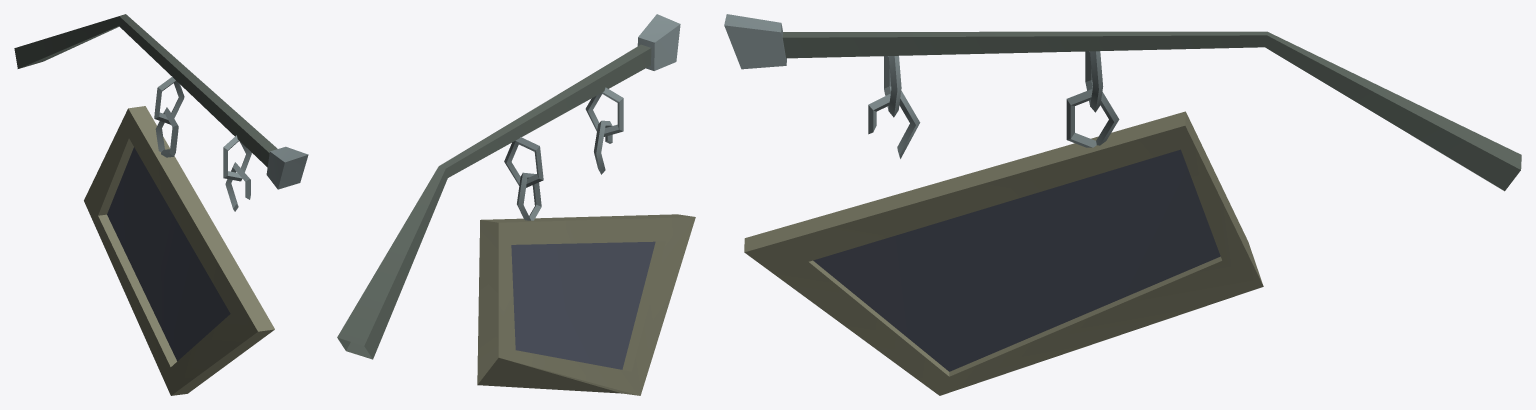
File: sign_broken.fbx
The picture shows the model from 3 angles, left to right: view 1: azimuth 30°, elevation 25°; view 2: azimuth 150°, elevation 25°; view 3: azimuth 270°, elevation 25°; orthographic projection. The views are drawn at different scales.
Visible parts, largest first — view 1: Sign_broken_anim, Sign_broken02; view 2: Sign_broken_anim, Sign_broken02; view 3: Sign_broken_anim, Sign_broken02.
Part boxes in pixels (x1=…): Sign_broken_anim: x1=84, y1=76, x2=274, y2=395; Sign_broken02: x1=14, y1=14, x2=308, y2=211; Sign_broken_anim: x1=477, y1=137, x2=695, y2=395; Sign_broken02: x1=337, y1=14, x2=680, y2=359; Sign_broken_anim: x1=744, y1=51, x2=1263, y2=395; Sign_broken02: x1=724, y1=14, x2=1521, y2=191.
Size of the model in its own units: 0.7763 by 2.82 by 5.07.
